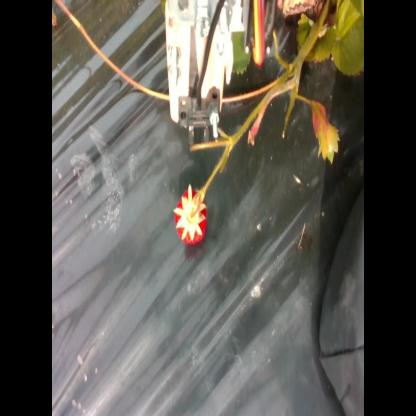ripe: (170, 185, 212, 247)
